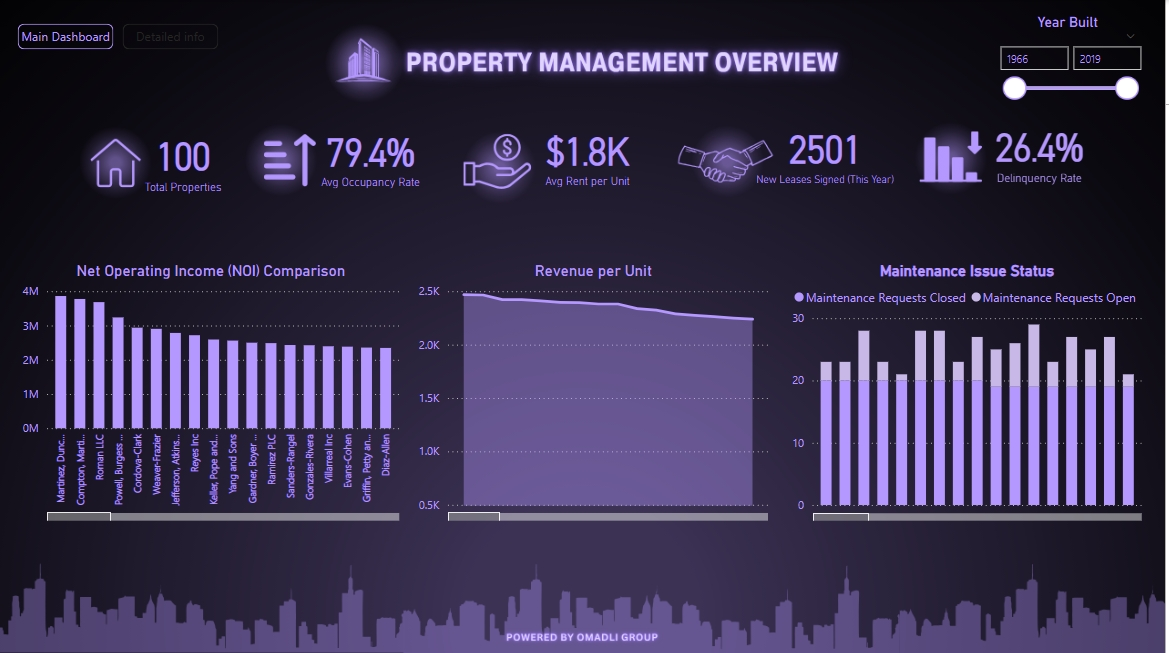

The dashboard page shown, as its layout file describes it:
{"tool":"powerbi","page":{"name":"Main Dashboard","canvas":[1280,720],"ordinal":0},"visuals":[{"type":"card","fields":{"Values":["technical_property_data_extended.Property_ID"]},"box":[150.9,130.4,102.9,89.2],"z":0},{"type":"card","fields":{"Values":["realistic_property_management_data.Occupancy_Rate_Percentage"]},"box":[343.1,129,130.4,82.3],"z":1000},{"type":"card","fields":{"Values":["realistic_property_management_data.Avg_Rent_per_Unit"]},"box":[590.1,127.6,112.5,82.3],"z":2000},{"type":"slicer","title":"Year Built","fields":{"Values":["technical_property_data_extended.Year_Built"]},"box":[1086.8,15.1,172.9,108.4],"z":3000},{"type":"clusteredColumnChart","title":"Net Operating Income (NOI) Comparison","fields":{"Category":["technical_property_data_extended.Property_Name"],"Y":["technical_property_data_extended.NOI"]},"box":[20.6,286.4,424,289.5],"z":4000},{"type":"stackedAreaChart","title":"Revenue per Unit","fields":{"Category":["technical_property_data_extended.Property_Name"],"Y":["technical_property_data_extended.Revenue_Per_Unit"]},"box":[455.6,286.4,393.8,289.5],"z":5000},{"type":"columnChart","title":"Maintenance Issue Status","fields":{"Category":["technical_property_data_extended.Property_Name"],"Y":["technical_property_data_extended.Maintenance_Requests_Closed","technical_property_data_extended.Maintenance_Requests_Open"]},"box":[865.9,286.4,393.8,289.5],"z":6000},{"type":"card","fields":{"Values":["technical_property_data_extended.New_Leases_Signed_This_Year"]},"box":[826.1,119.4,161.9,94.7],"z":7000},{"type":"card","fields":{"Values":["technical_property_data_extended.Delinquency_Rate_Percentage"]},"box":[1086.8,122.1,111.1,86.4],"z":8000},{"type":"pageNavigator","box":[20.6,26.1,220.9,28.8],"z":9000}]}

Visuals, with their boxes in screenshot pixels (x1, y1, x2, y2), scaled from the page's 1280x720 canvas onto the 1169x653 screenshot:
card - technical_property_data_extended.Property_ID: left=138, top=118, right=232, bottom=199
card - realistic_property_management_data.Occupancy_Rate_Percentage: left=313, top=117, right=432, bottom=192
card - realistic_property_management_data.Avg_Rent_per_Unit: left=539, top=116, right=642, bottom=190
"Year Built" slicer: left=993, top=14, right=1150, bottom=112
"Net Operating Income (NOI) Comparison" clusteredColumnChart: left=19, top=260, right=406, bottom=522
"Revenue per Unit" stackedAreaChart: left=416, top=260, right=776, bottom=522
"Maintenance Issue Status" columnChart: left=791, top=260, right=1150, bottom=522
card - technical_property_data_extended.New_Leases_Signed_This_Year: left=754, top=108, right=902, bottom=194
card - technical_property_data_extended.Delinquency_Rate_Percentage: left=993, top=111, right=1094, bottom=189
pageNavigator: left=19, top=24, right=221, bottom=50
